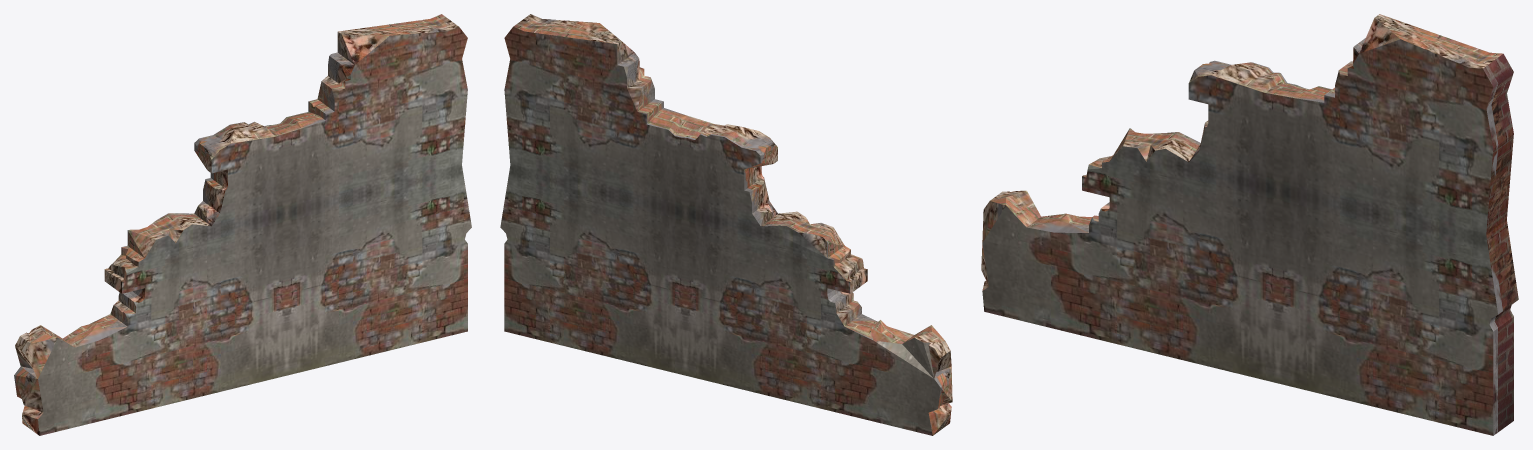
File: Brick_Wall_2.fbx
3 renders of one model, left to right at view 1: azimuth 30°, elevation 25°; view 2: azimuth 150°, elevation 25°; view 3: azimuth 330°, elevation 25°, orthographic. The views are drawn at different scales.
Visible parts, largest first — view 1: wall.001; view 2: wall.001; view 3: wall.001.
Part boxes in pixels (left/top/right/bottom): wall.001: left=14, top=14, right=471, bottom=435; wall.001: left=500, top=14, right=952, bottom=435; wall.001: left=981, top=14, right=1518, bottom=435.
Size of the model in its own units: 459 by 313 by 31.24.
